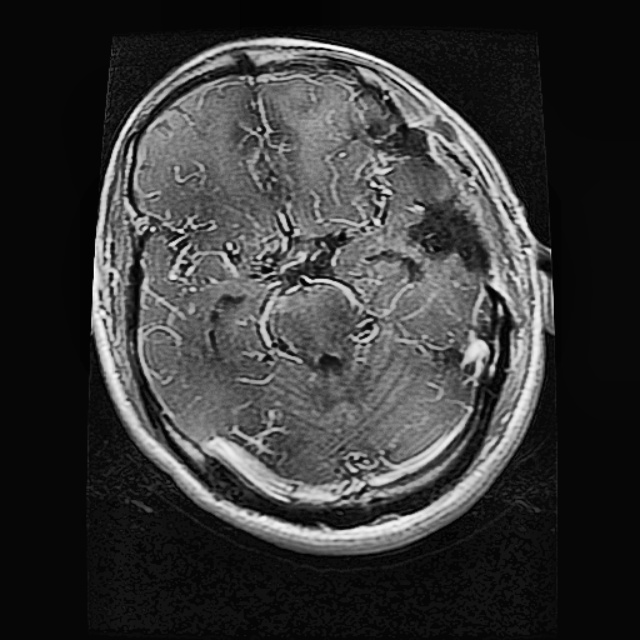Pituitary: (405, 193, 488, 275)
